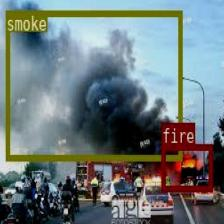fire: (161, 143, 212, 190)
smoke: (5, 9, 182, 160)
